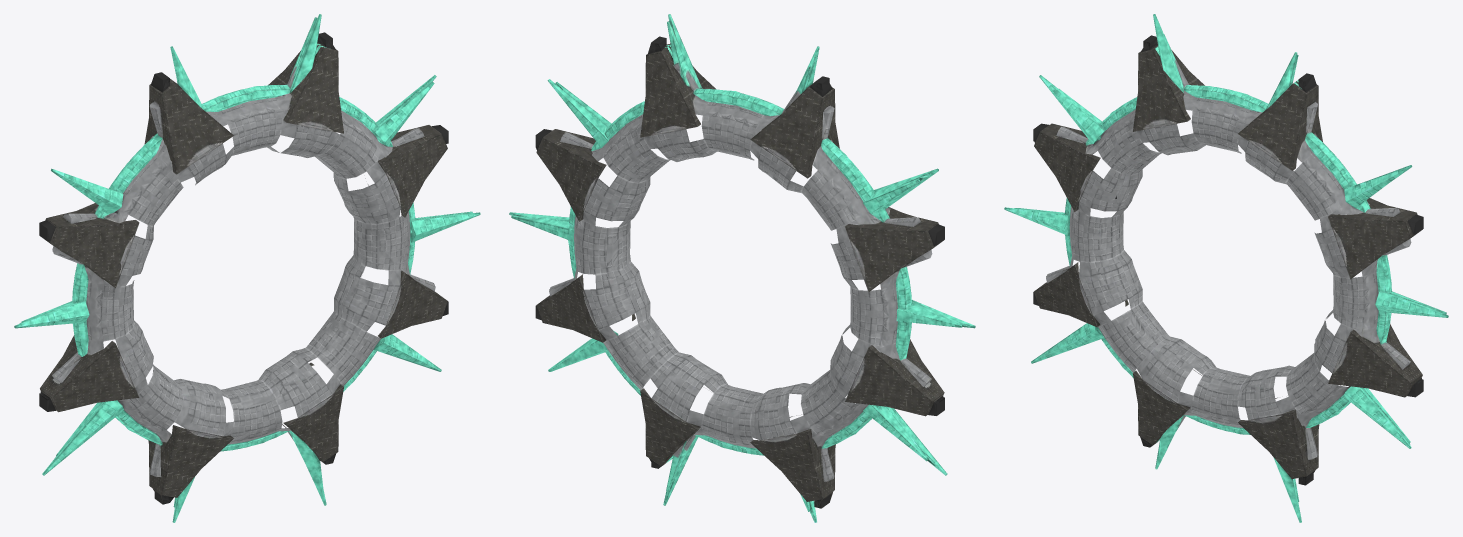
File: sd_prop_gate_zumrut.glb
The picture shows the model from 3 angles, left to right: view 1: azimuth 30°, elevation 25°; view 2: azimuth 150°, elevation 25°; view 3: azimuth 330°, elevation 25°; orthographic projection. The views are drawn at different scales.
Visible parts, largest first — view 1: LOD0_body, LOD1_body; view 2: LOD0_body, LOD1_body; view 3: LOD0_body, LOD1_body.
Part boxes in pixels (box(x1,y1,x2,y2)): LOD0_body: box(14, 14, 480, 522); LOD1_body: box(19, 32, 448, 508); LOD0_body: box(509, 14, 975, 522); LOD1_body: box(514, 28, 971, 514); LOD0_body: box(1004, 14, 1448, 522); LOD1_body: box(1014, 35, 1423, 507).
Bounding box in the file's own units: 0.9817 × 1 × 0.1212.
Materials: 1 (1 with a texture image).
